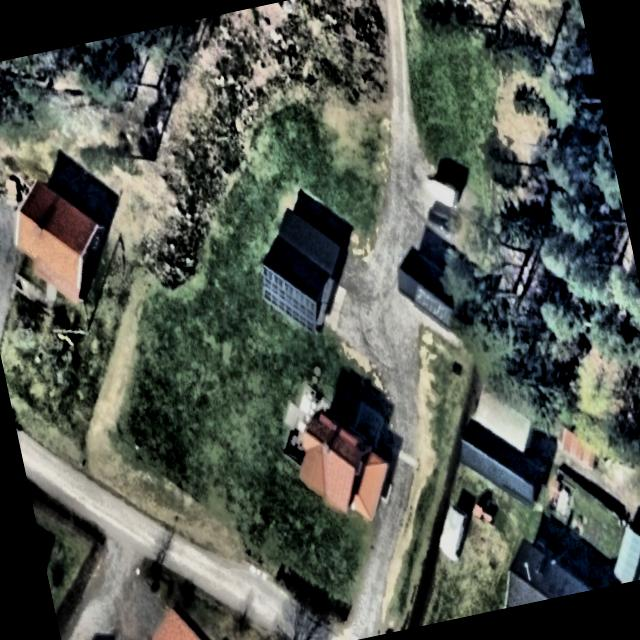roof_pv: (260, 258, 320, 336)
